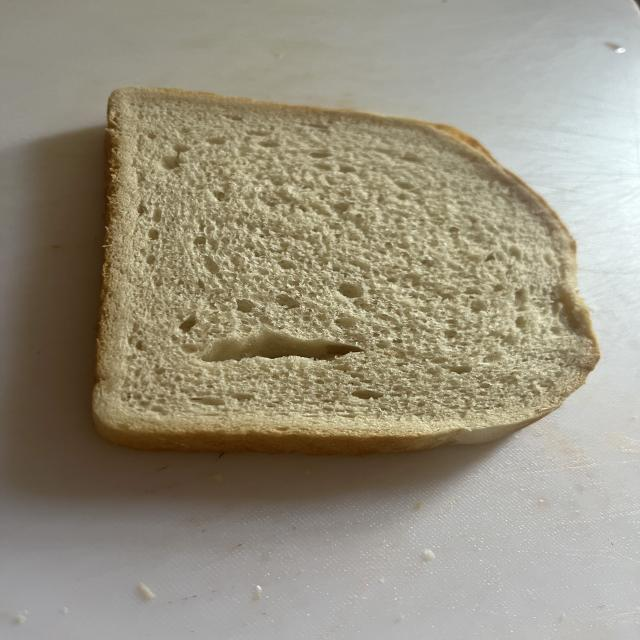sliced_bread: (93, 88, 598, 454)
